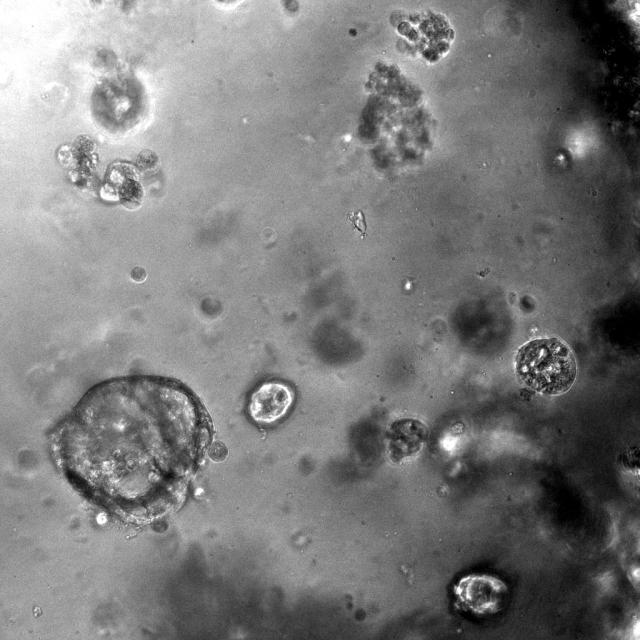organoid: (47, 374, 228, 532), (357, 63, 435, 172), (58, 135, 159, 208), (514, 336, 577, 400), (391, 9, 455, 65), (244, 376, 296, 430), (454, 574, 506, 617), (386, 417, 426, 462)
